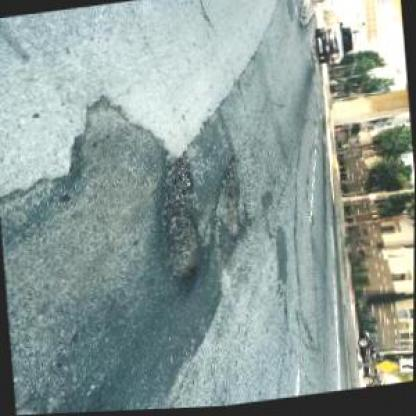pothole: (148, 150, 206, 288), (210, 151, 249, 243)
